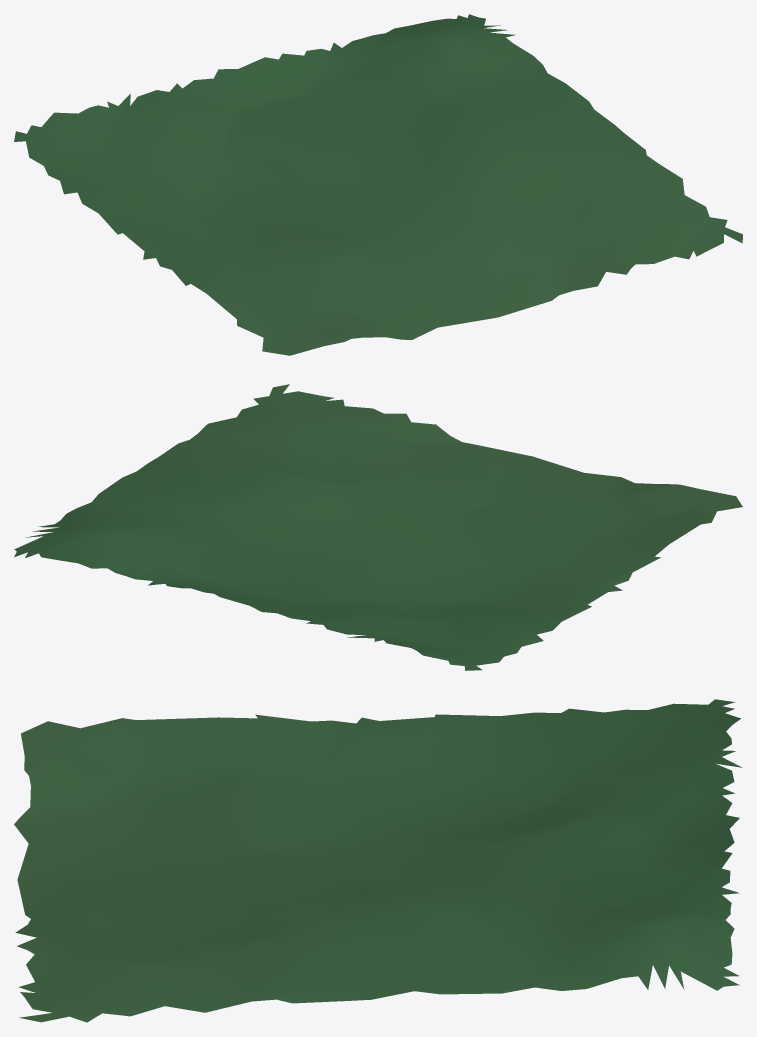
Rendered from payo_land_x3_y8_lod2.glb.
The picture shows the model from 3 angles, top to bottom: view 1: azimuth 30°, elevation 25°; view 2: azimuth 150°, elevation 25°; view 3: azimuth 270°, elevation 25°; orthographic projection. The views are drawn at different scales.
Parts seen in each view (by area): view 1: payo_land_x3_y8; view 2: payo_land_x3_y8; view 3: payo_land_x3_y8.
Part boxes in pixels (box(x1,y1,x2,y2)): payo_land_x3_y8: box(14, 14, 742, 355); payo_land_x3_y8: box(14, 384, 742, 670); payo_land_x3_y8: box(14, 699, 742, 1022).
Size of the model in its own units: 265 by 30.14 by 265.
